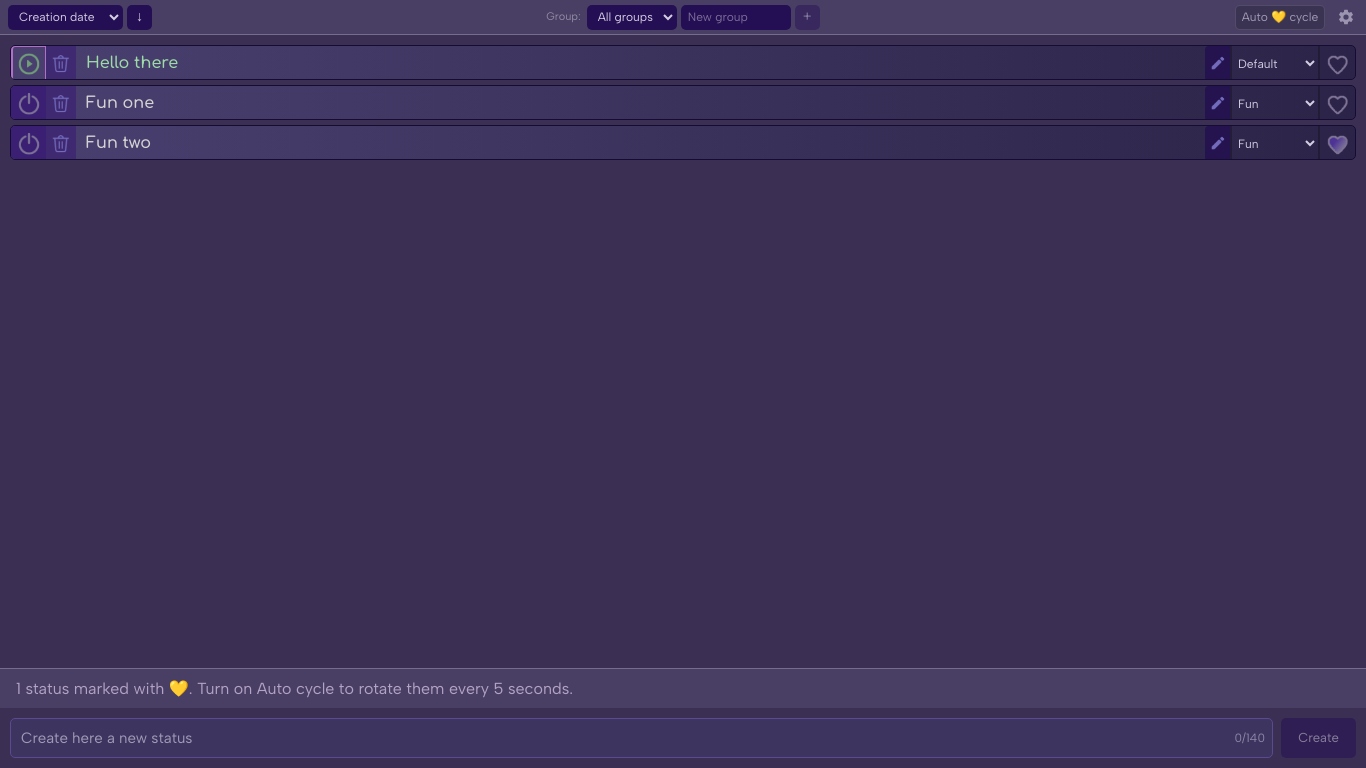
Test case: StatusPage › toggles useInCycle with the heart
Click the button named "Add Hello there to cycle": point(1338, 64) [1320, 46, 1355, 81]
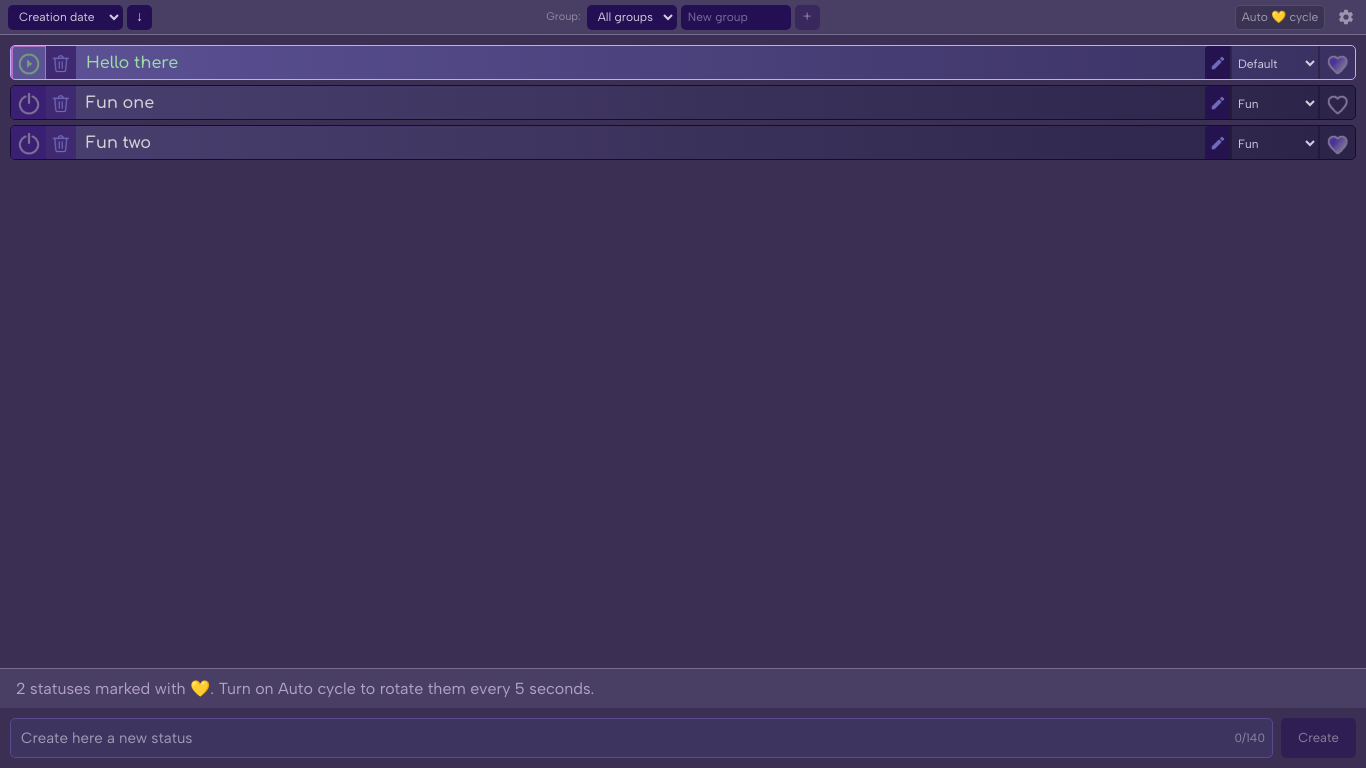
Now the button named "Remove Hello there from cycle" is shown, box [1320, 46, 1355, 80]
Click the button named "Remove Fun two from cycle": point(1338, 144) [1320, 126, 1355, 161]
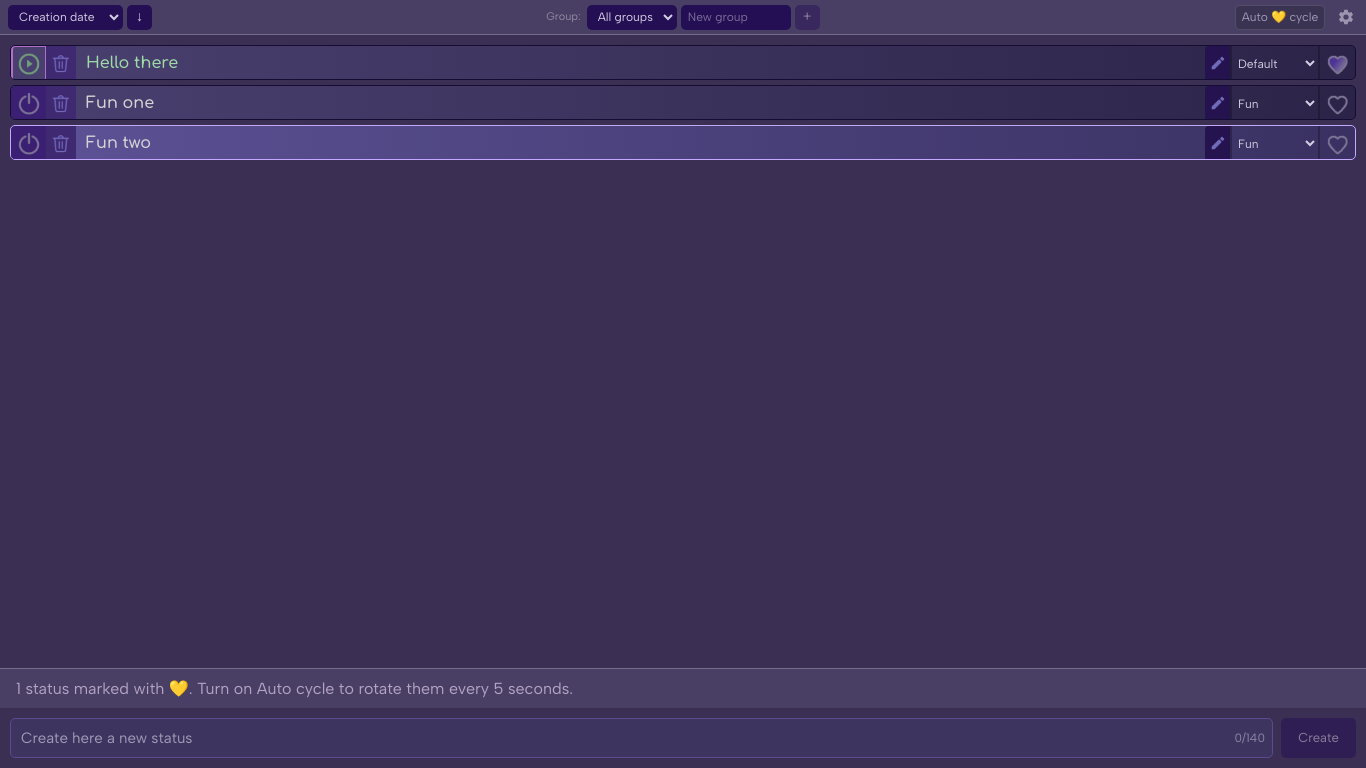
Now the button named "Add Fun two to cycle" is shown, box [1320, 126, 1355, 160]
